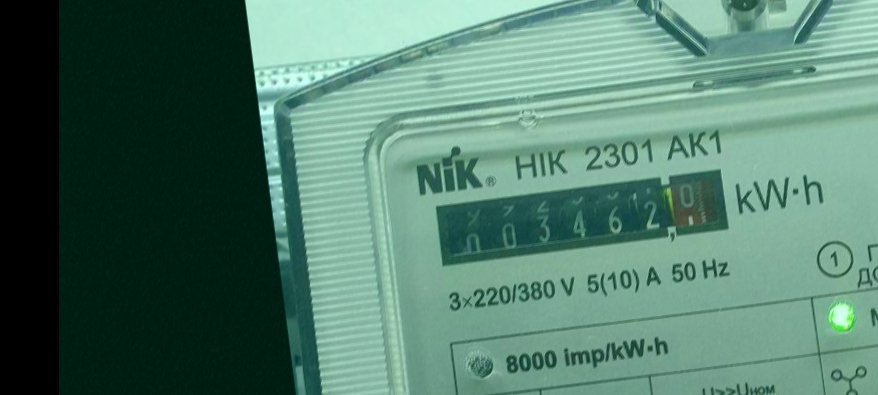0: (498, 218, 520, 249), (677, 180, 697, 210), (461, 229, 483, 254)
2: (641, 197, 663, 231)
3: (533, 212, 555, 246)
4: (569, 206, 590, 240)
6: (603, 201, 627, 238)
9: (462, 207, 484, 228)
screen: (421, 155, 742, 285)
